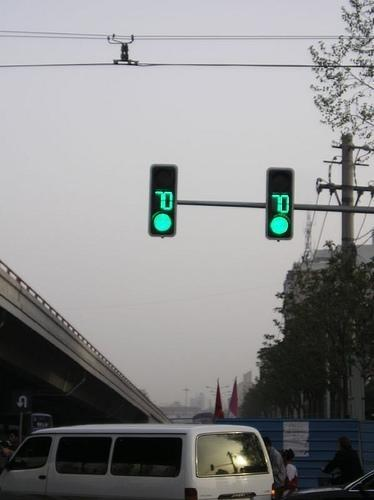bicycle: (276, 486, 300, 500), (328, 472, 340, 486)
car: (279, 470, 374, 500), (0, 410, 55, 441)
